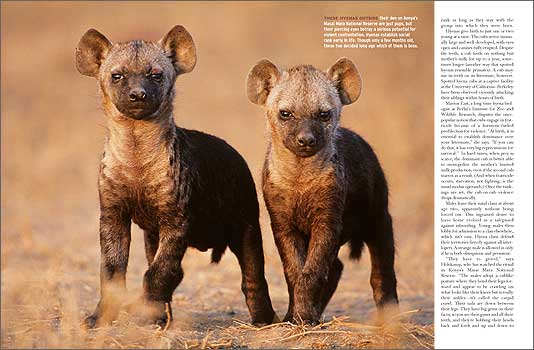hyena: (78, 24, 282, 336), (240, 54, 401, 324)
